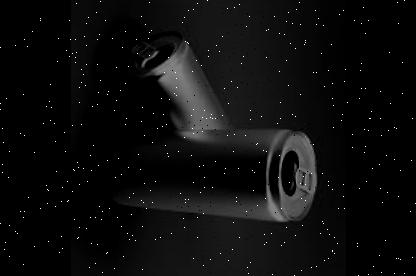Can: (95, 128, 317, 220), (115, 30, 237, 128)
